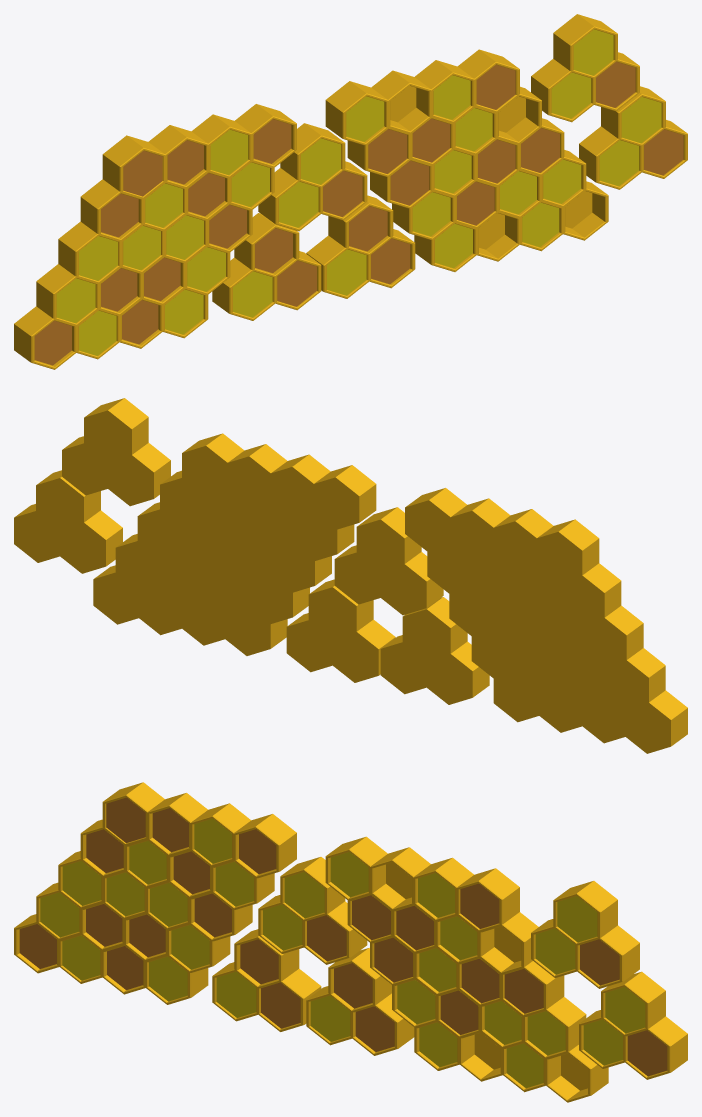
Rendered from honeyLevel6.fbx.
The picture shows the model from 3 angles, top to bottom: view 1: azimuth 30°, elevation 25°; view 2: azimuth 150°, elevation 25°; view 3: azimuth 330°, elevation 25°; orthographic projection.
Visible parts, largest first — view 1: Cube.007, ArrayCombs.001, Cube.008, Cube.001, Cube.005, Cube.010, Cube.002; view 2: Cube.007, ArrayCombs.001, Cube.008, Cube.001, Cube.005, Cube.010, Cube.002; view 3: ArrayCombs.001, Cube.007, Cube.008, Cube.010, Cube.001, Cube.002, Cube.005.
Boxes of the visible parts, x1,y1,x2,y2 form: Cube.007: [14, 104, 296, 369]; ArrayCombs.001: [325, 49, 608, 271]; Cube.008: [531, 14, 639, 122]; Cube.001: [258, 123, 367, 231]; Cube.005: [212, 213, 321, 320]; Cube.010: [579, 86, 687, 189]; Cube.002: [306, 195, 415, 298]; Cube.007: [405, 488, 687, 753]; ArrayCombs.001: [93, 433, 376, 655]; Cube.008: [62, 398, 170, 506]; Cube.001: [334, 507, 443, 615]; Cube.005: [380, 597, 489, 704]; Cube.010: [14, 470, 122, 573]; Cube.002: [286, 579, 395, 682]; ArrayCombs.001: [325, 836, 608, 1102]; Cube.007: [14, 782, 296, 1004]; Cube.008: [531, 881, 639, 988]; Cube.010: [579, 971, 687, 1079]; Cube.001: [258, 857, 367, 964]; Cube.002: [306, 948, 414, 1055]; Cube.005: [212, 929, 321, 1031].
Bounding box in the file's own units: 3667 × 1133 × 167.
